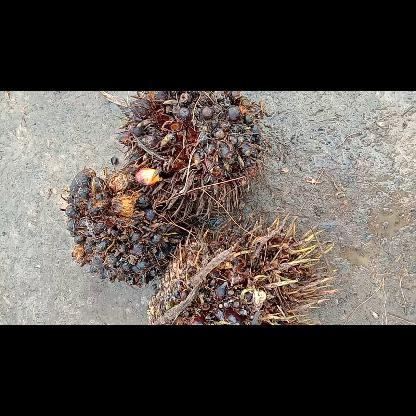TBS abnormal: (146, 212, 334, 324), (117, 91, 264, 216), (59, 167, 183, 284)
